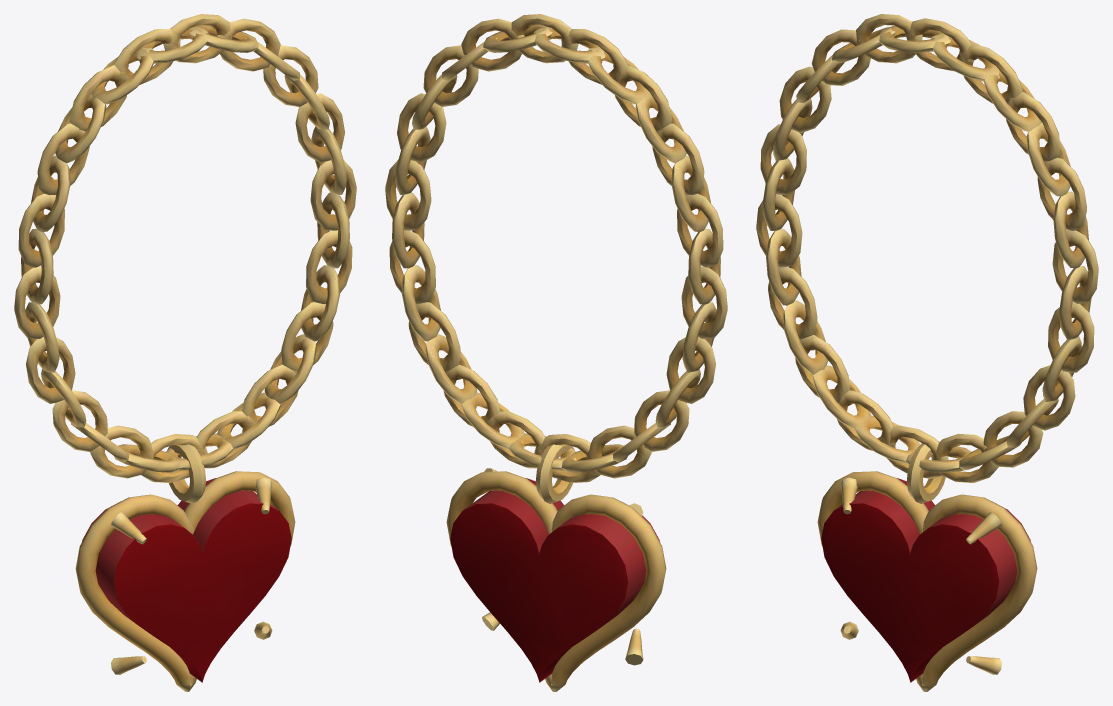
Rendered from heart_amulet.glb.
3 views of the same model, side by side, from view 1: azimuth 30°, elevation 25°; view 2: azimuth 150°, elevation 25°; view 3: azimuth 330°, elevation 25° (orthographic).
Visible parts, largest first — view 1: heart_amulet; view 2: heart_amulet; view 3: heart_amulet.
Part boxes in pixels (<box>): heart_amulet: <box>14,14,356,691</box>; heart_amulet: <box>385,14,727,691</box>; heart_amulet: <box>756,14,1098,691</box>.
Bounding box in the file's own units: 0.172 × 0.3236 × 0.0329.
1 material, 1 textured.
